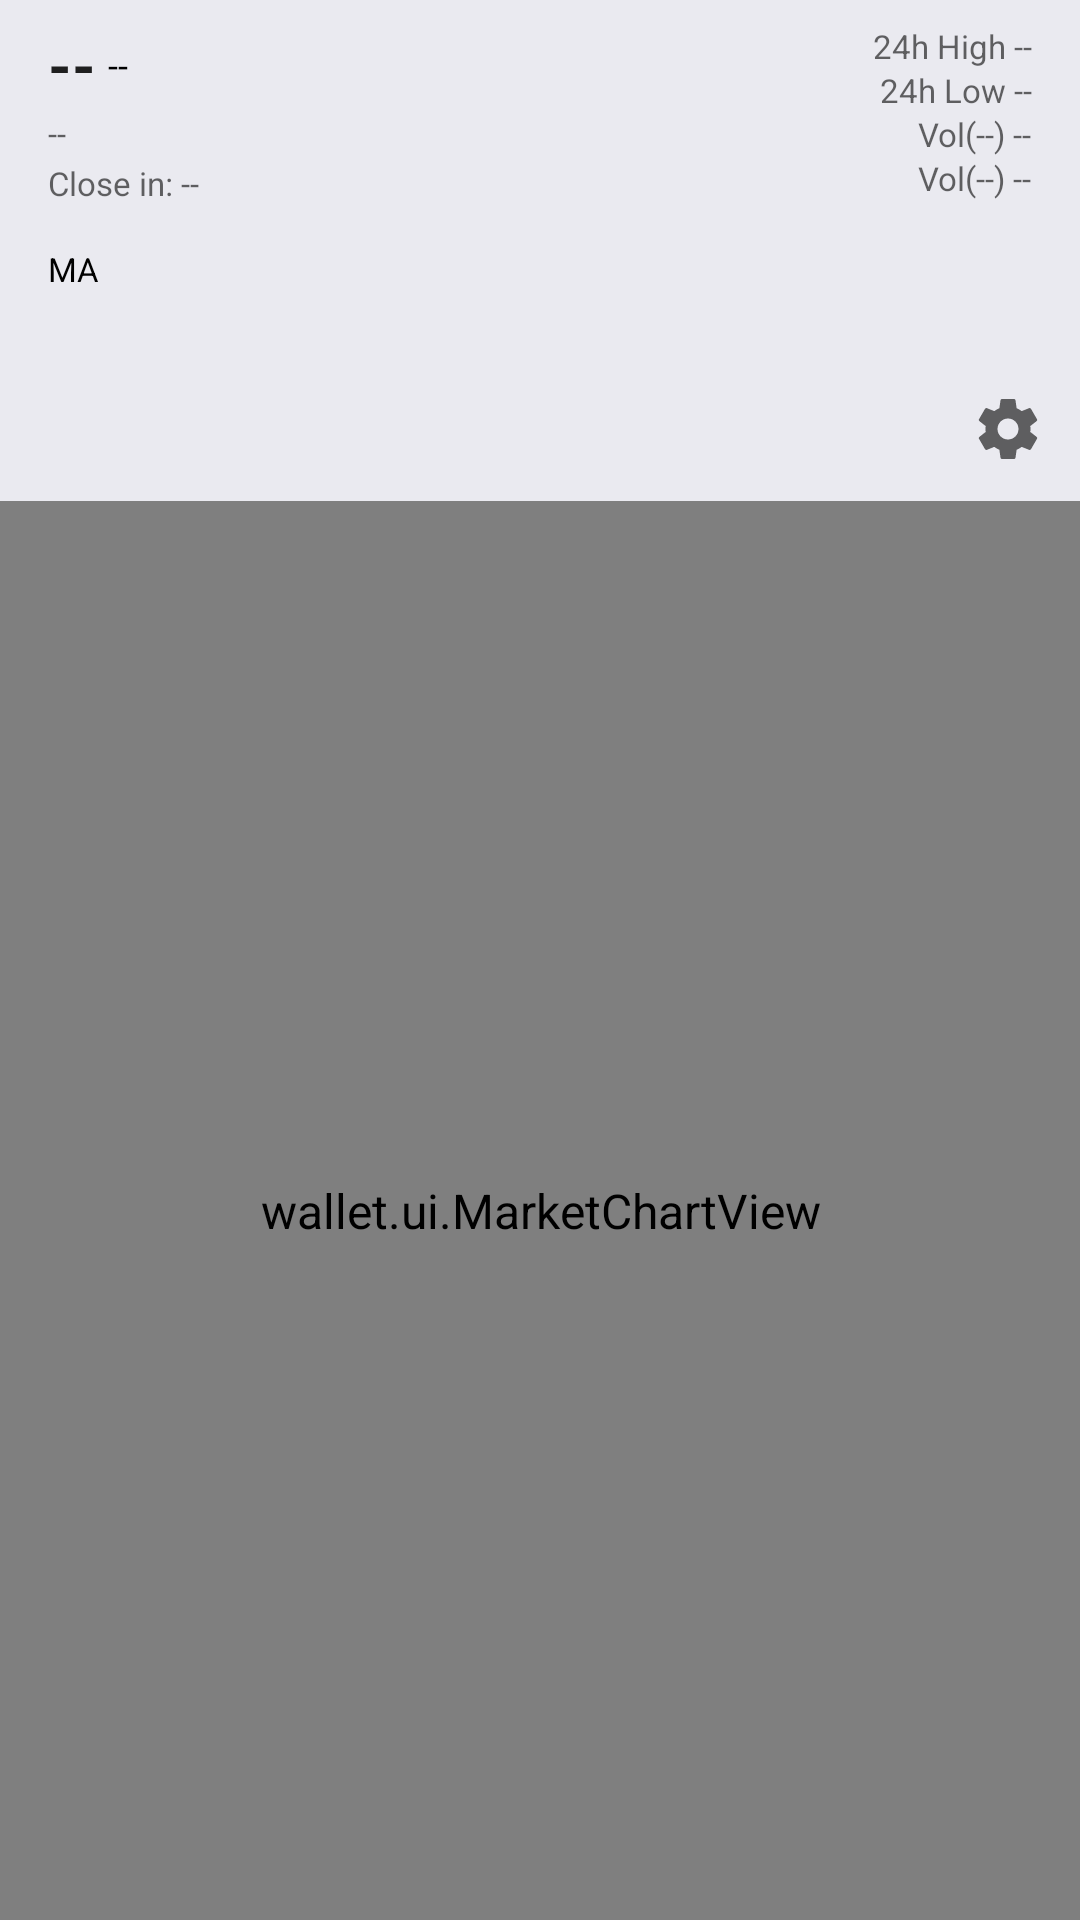

Point at icon controls on the screen. Image size 1080 × 1920, points as point (x, y).
Chart Settings: point (1008, 429)
